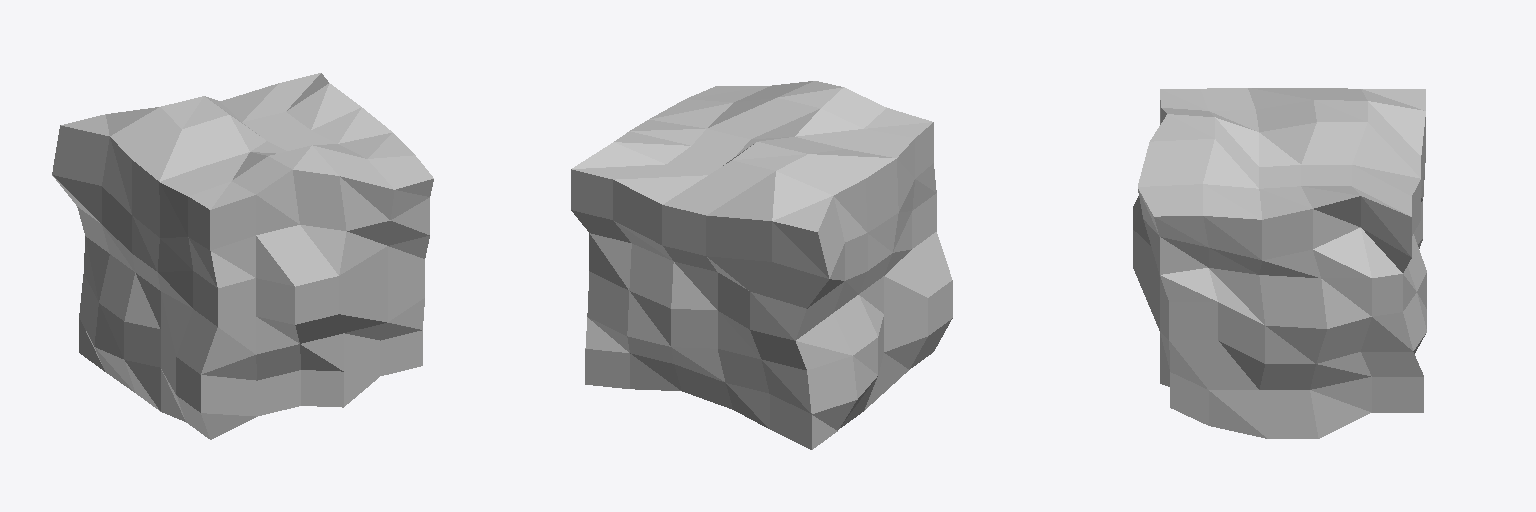
Rendered from stone.obj.
3 views of the same model, side by side, from view 1: azimuth 30°, elevation 25°; view 2: azimuth 150°, elevation 25°; view 3: azimuth 270°, elevation 25° (orthographic).
Visible parts, largest first — view 1: Cube; view 2: Cube; view 3: Cube.
Boxes of the visible parts, box(x1,y1,x2,y2) form: Cube: box(52, 73, 433, 439); Cube: box(571, 81, 952, 449); Cube: box(1133, 88, 1426, 438).
Bounding box in the file's own units: 4.79 × 4.56 × 4.6.